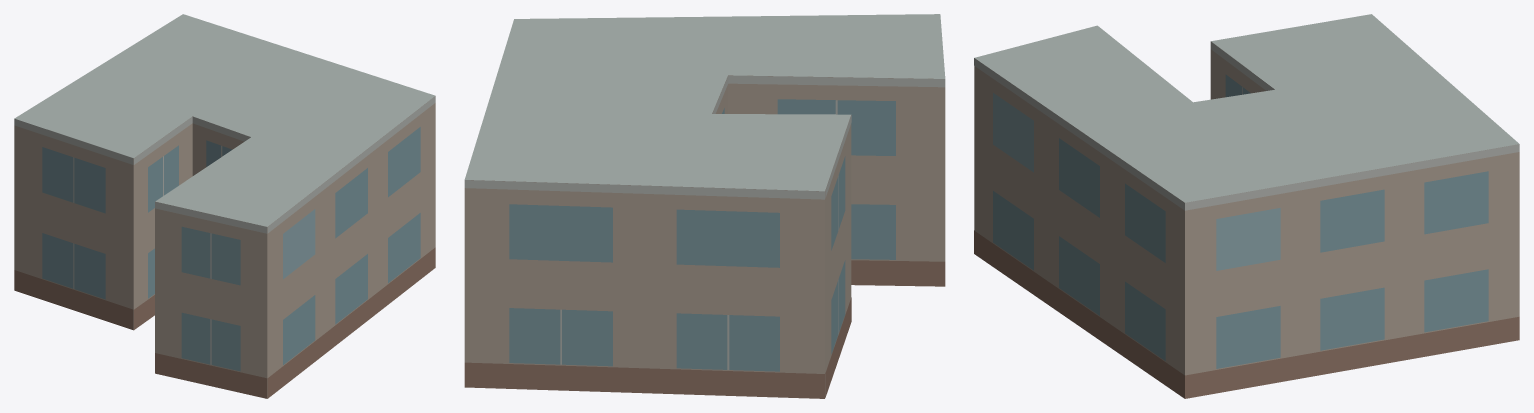
The model's file is survey-upis-32993738.glb.
3 views of the same model, side by side, from view 1: azimuth 30°, elevation 25°; view 2: azimuth 150°, elevation 25°; view 3: azimuth 270°, elevation 25° (orthographic). The views are drawn at different scales.
Parts seen in each view (by area): view 1: survey-upis-32993738.tmp; view 2: survey-upis-32993738.tmp; view 3: survey-upis-32993738.tmp.
Part boxes in pixels (left/top/right/bottom): survey-upis-32993738.tmp: left=14, top=14, right=435, bottom=398; survey-upis-32993738.tmp: left=464, top=14, right=945, bottom=398; survey-upis-32993738.tmp: left=974, top=14, right=1519, bottom=398.
Size of the model in its own units: 12.61 by 6.1 by 15.4.
